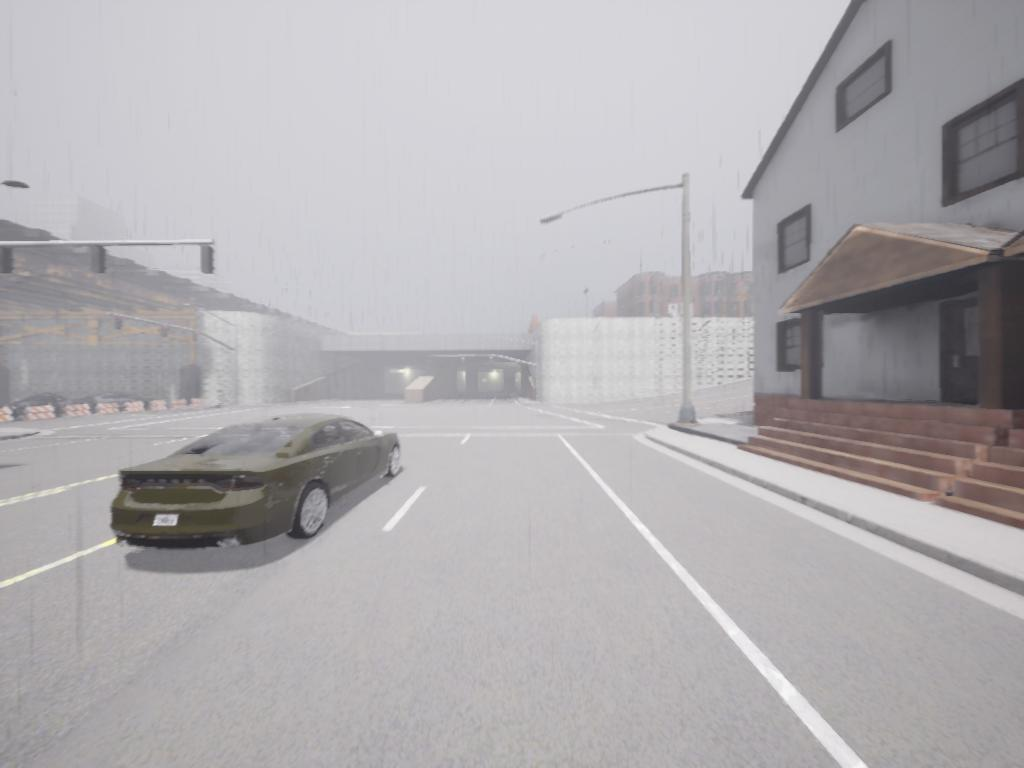traffic_light: (91, 243, 112, 281), (199, 245, 217, 276), (1, 244, 14, 275), (160, 325, 173, 342), (116, 318, 125, 336), (489, 356, 496, 373), (460, 357, 469, 370), (193, 331, 200, 344)
